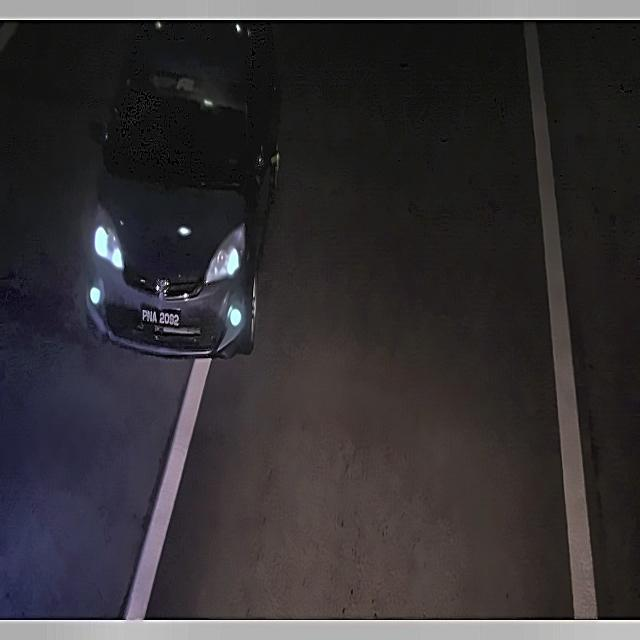car: (139, 300, 182, 335)
